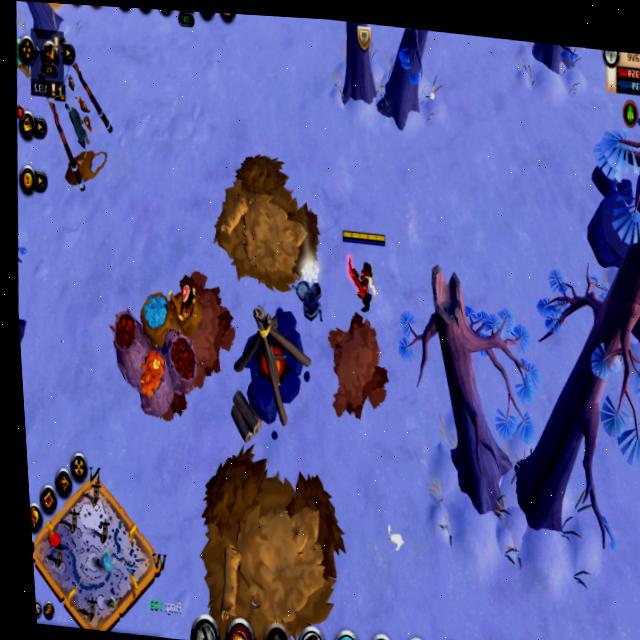hide: (14, 28, 40, 84)
red: (337, 227, 393, 322)
stone: (298, 254, 323, 293)
